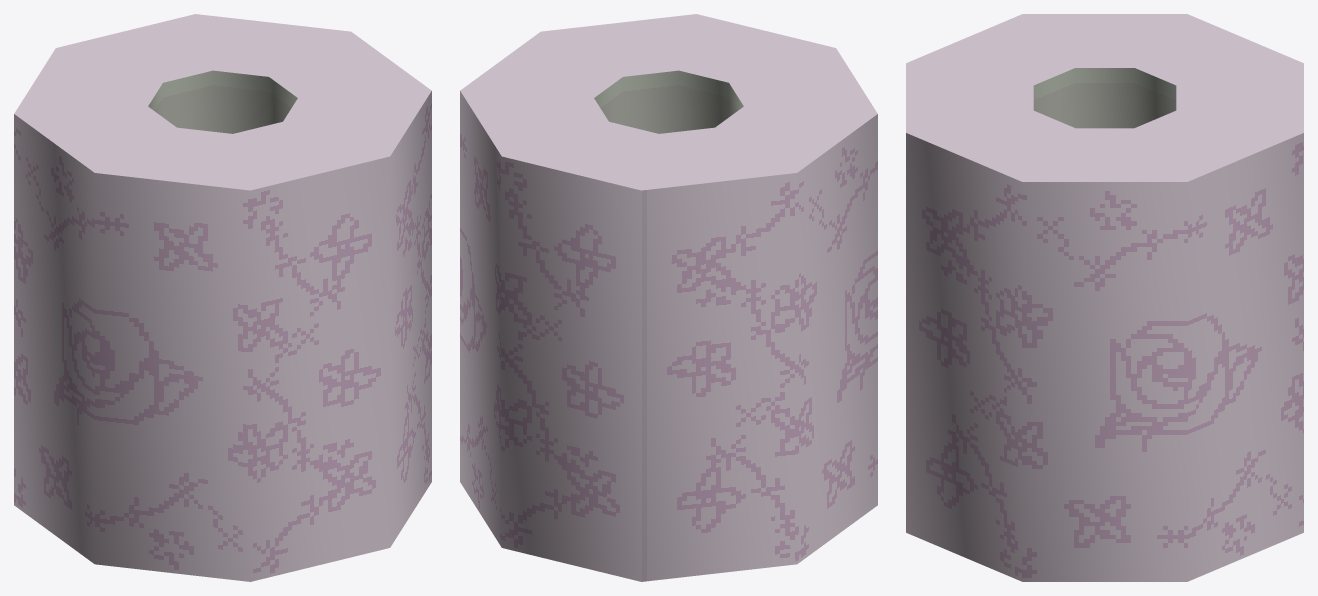
Rendered from 0187_Toilet_Paper.glb.
3 views of the same model, side by side, from view 1: azimuth 30°, elevation 25°; view 2: azimuth 150°, elevation 25°; view 3: azimuth 270°, elevation 25° (orthographic). The views are drawn at different scales.
Parts seen in each view (by area): view 1: part_0; view 2: part_0; view 3: part_0.
Boxes of the visible parts, bbox=[...] form: part_0: bbox=[14, 14, 431, 581]; part_0: bbox=[460, 14, 877, 581]; part_0: bbox=[906, 14, 1303, 581].
Size of the model in its own units: 0.1044 by 0.1158 by 0.1044.
Materials: 1 (1 with a texture image).
